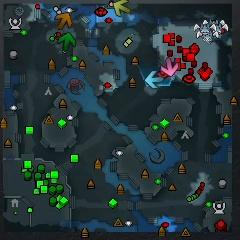x1: (160, 57, 179, 76)
x2: (114, 0, 131, 17)
x3: (145, 70, 163, 88)
x4: (58, 32, 76, 51)
x5: (55, 14, 72, 30)
